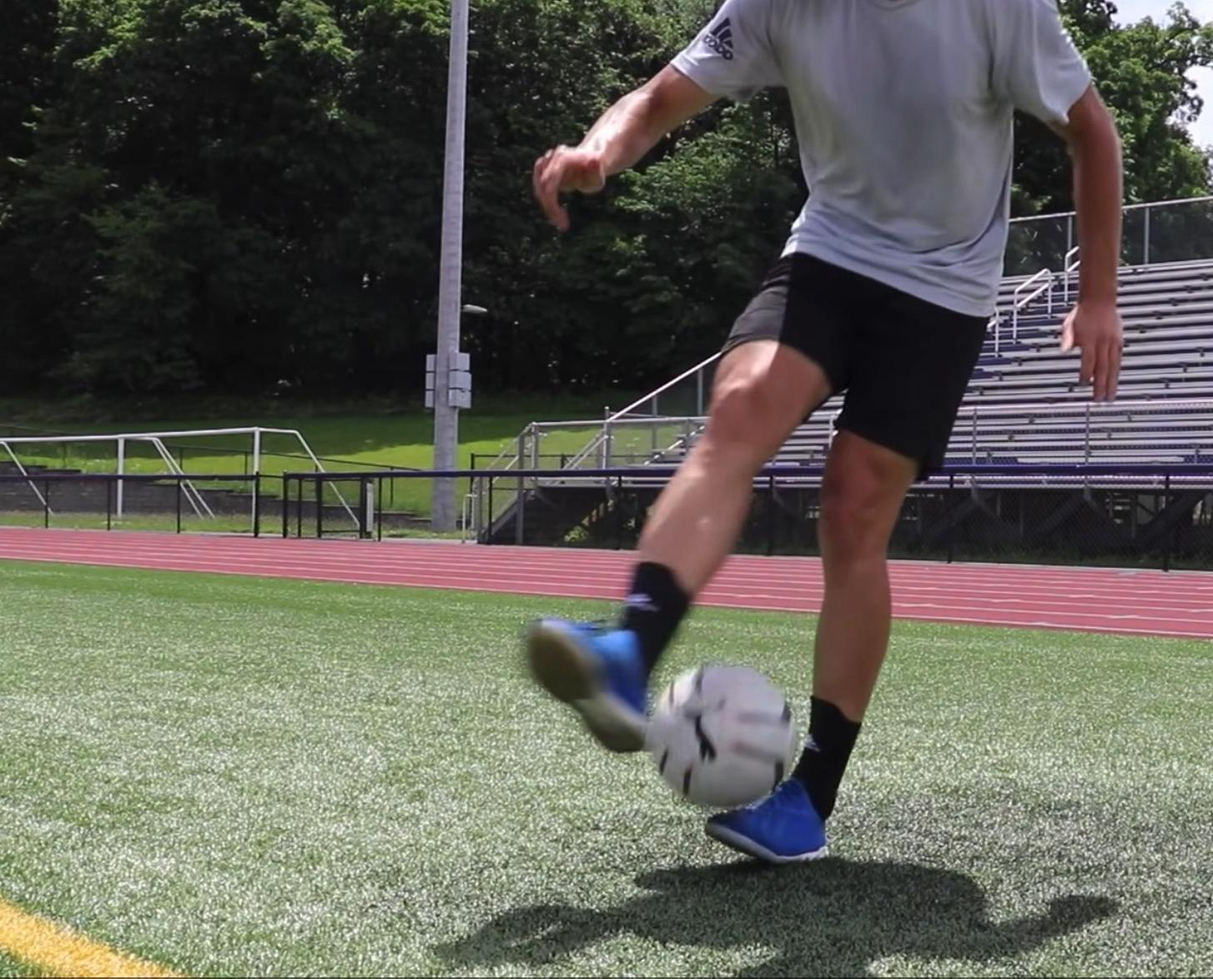ball: (648, 664, 800, 806)
foot: (522, 618, 648, 752), (705, 786, 831, 865)
person: (529, 0, 1117, 870)
